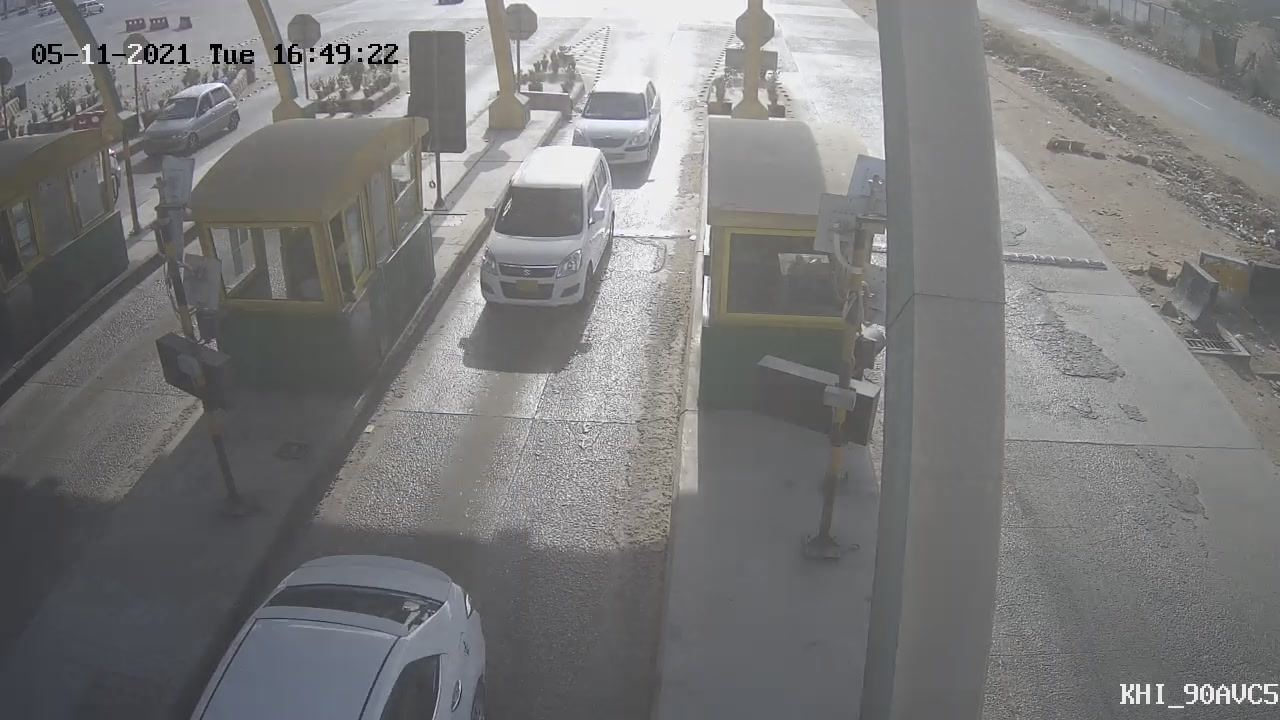F1: (457, 134, 633, 326), (556, 62, 676, 187)
